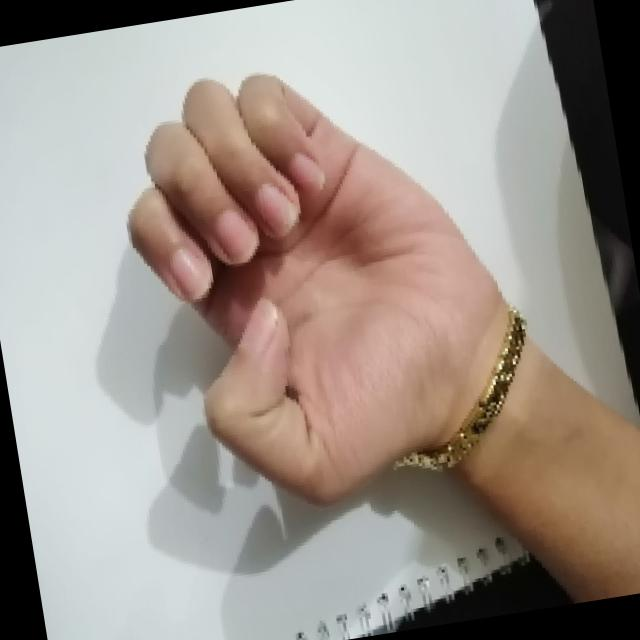Nail: (215, 210, 257, 264), (169, 248, 212, 300), (254, 183, 297, 235), (239, 300, 278, 357), (288, 153, 325, 192)
